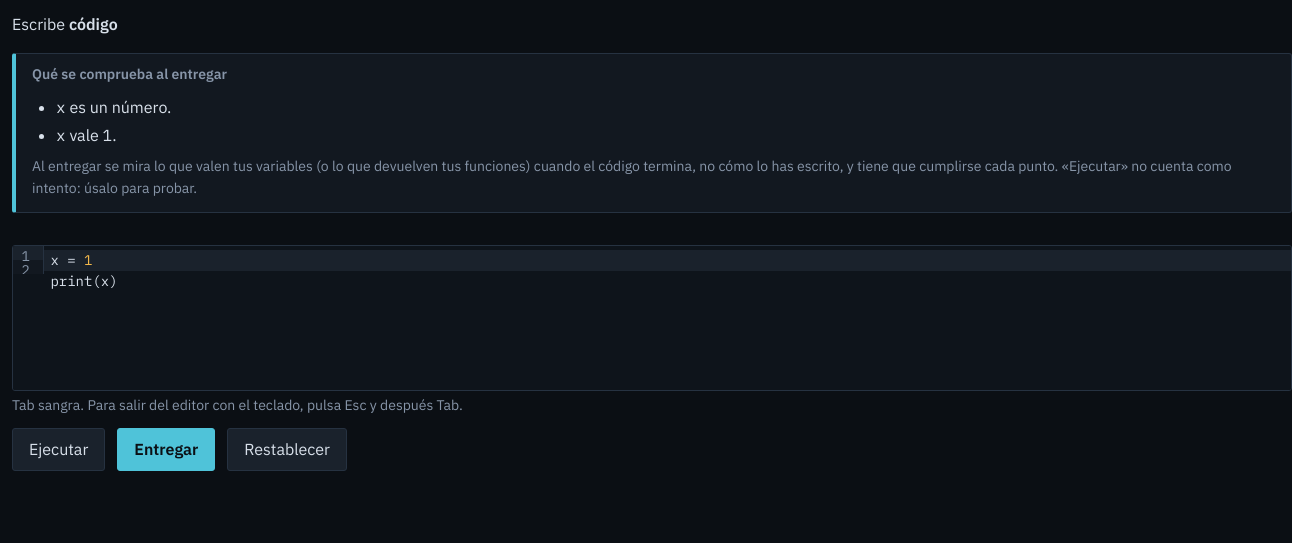
Test: CodigoQuestion: ejecutar y entregar › un plazo agotado deja vacía la región de resultados aunque el resultado traiga salida
Click the button "Ejecutar" at x=59, y=450, box [12,428,105,471]
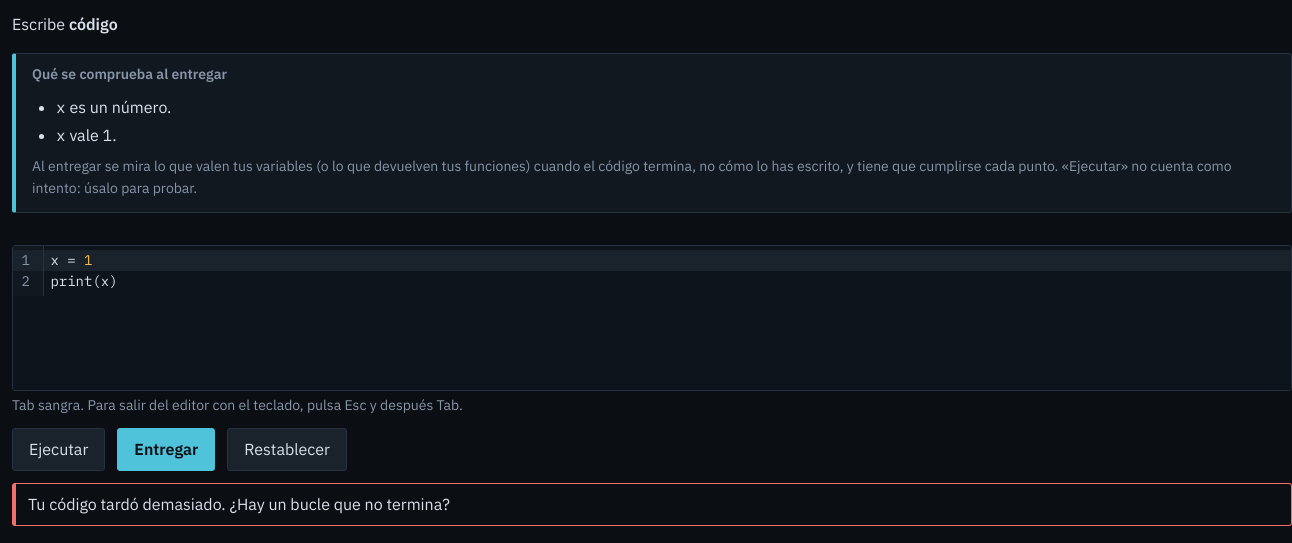
Now the text "Tu código tardó demasiado. ¿Hay un bucle que no termina?" is shown, box [12,483,1291,526]
